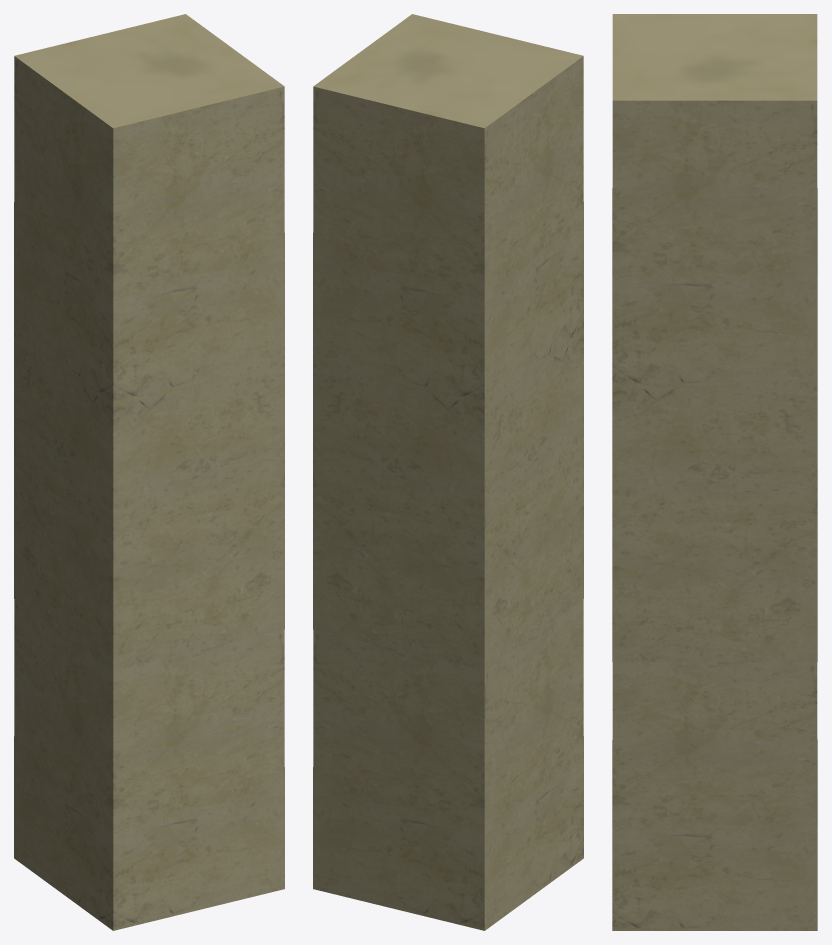
File: Trim_Column_Center.gltf
3 renders of one model, left to right at view 1: azimuth 30°, elevation 25°; view 2: azimuth 150°, elevation 25°; view 3: azimuth 270°, elevation 25°, orthographic. The views are drawn at different scales.
Visible parts, largest first — view 1: Trim_Column_Center; view 2: Trim_Column_Center; view 3: Trim_Column_Center.
Boxes of the visible parts, x1,y1,x2,y2 form: Trim_Column_Center: [14, 14, 284, 930]; Trim_Column_Center: [313, 14, 583, 930]; Trim_Column_Center: [612, 14, 817, 930].
Bounding box in the file's own units: 0.6716 × 3 × 0.6716.
Materials: 1 (1 with a texture image).
